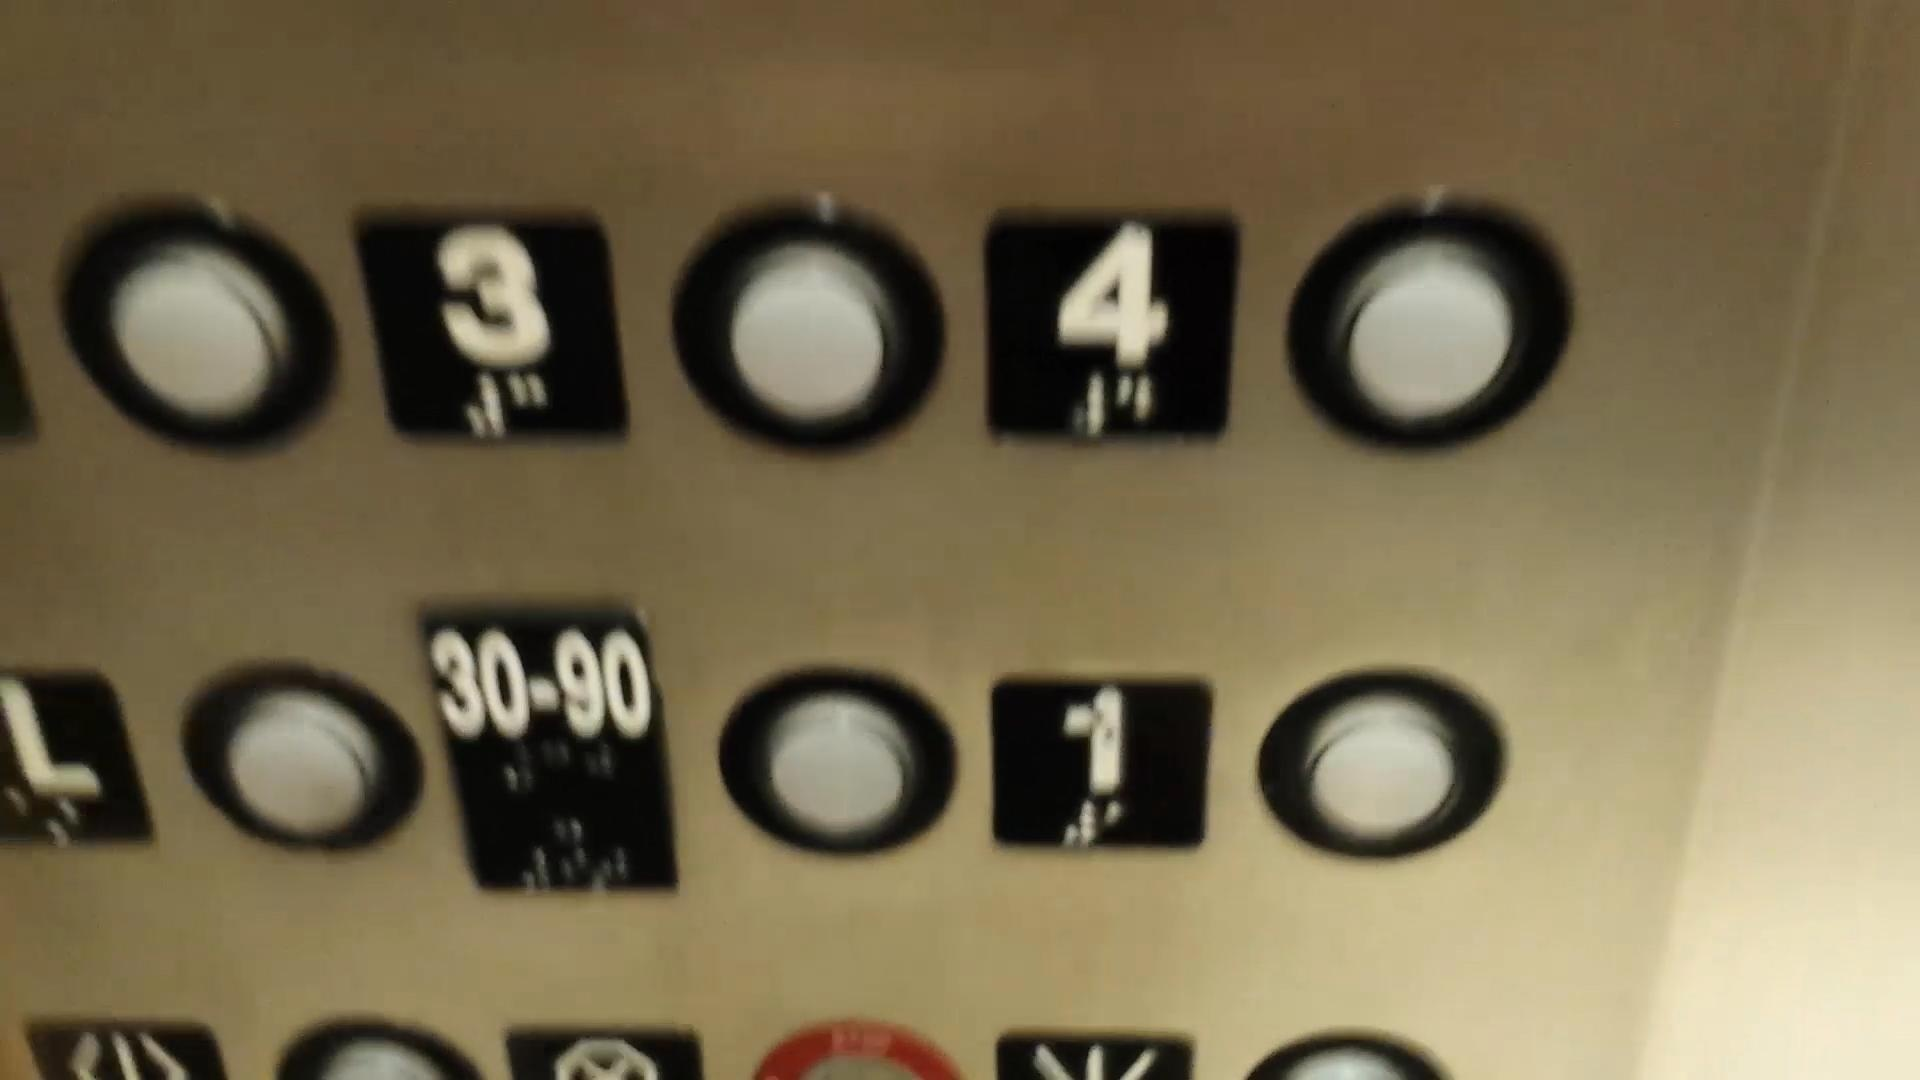1: (977, 659, 1222, 866)
3: (339, 199, 638, 448)
4: (972, 191, 1249, 456)
empty: (1283, 182, 1578, 458), (659, 187, 955, 462), (50, 190, 345, 458), (1250, 654, 1515, 862), (712, 655, 971, 862), (165, 650, 423, 856)
text_30-90: (415, 589, 690, 893)
